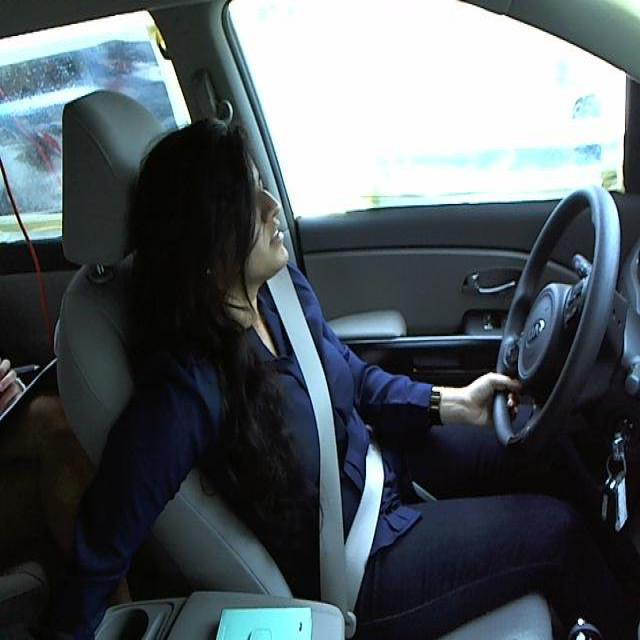seatbelt: (269, 297, 392, 591)
